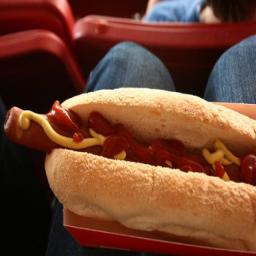hotdog: (4, 103, 254, 184)
